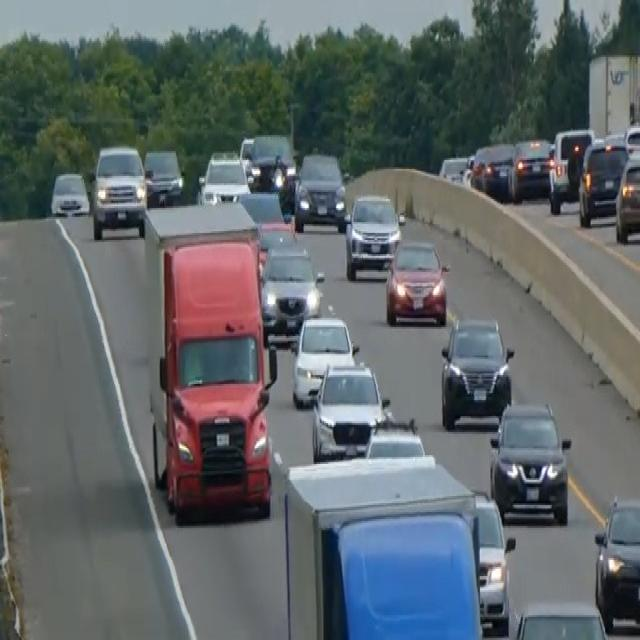car: (488, 398, 572, 524), (439, 313, 514, 430), (310, 358, 389, 460), (471, 487, 515, 637), (593, 493, 639, 631), (291, 313, 357, 407), (260, 242, 324, 336), (384, 237, 449, 327), (90, 142, 147, 238), (344, 190, 401, 279), (577, 135, 628, 226), (294, 149, 346, 231), (547, 126, 594, 214), (511, 599, 614, 638), (245, 132, 295, 194), (197, 148, 250, 205), (363, 414, 426, 460), (510, 135, 552, 201), (470, 141, 515, 199), (614, 146, 639, 244), (143, 146, 184, 204), (255, 221, 296, 279), (50, 169, 89, 217), (236, 188, 284, 226), (438, 153, 471, 185), (238, 134, 255, 180), (622, 121, 639, 155)
lorry: (142, 199, 278, 521), (284, 455, 484, 638)
